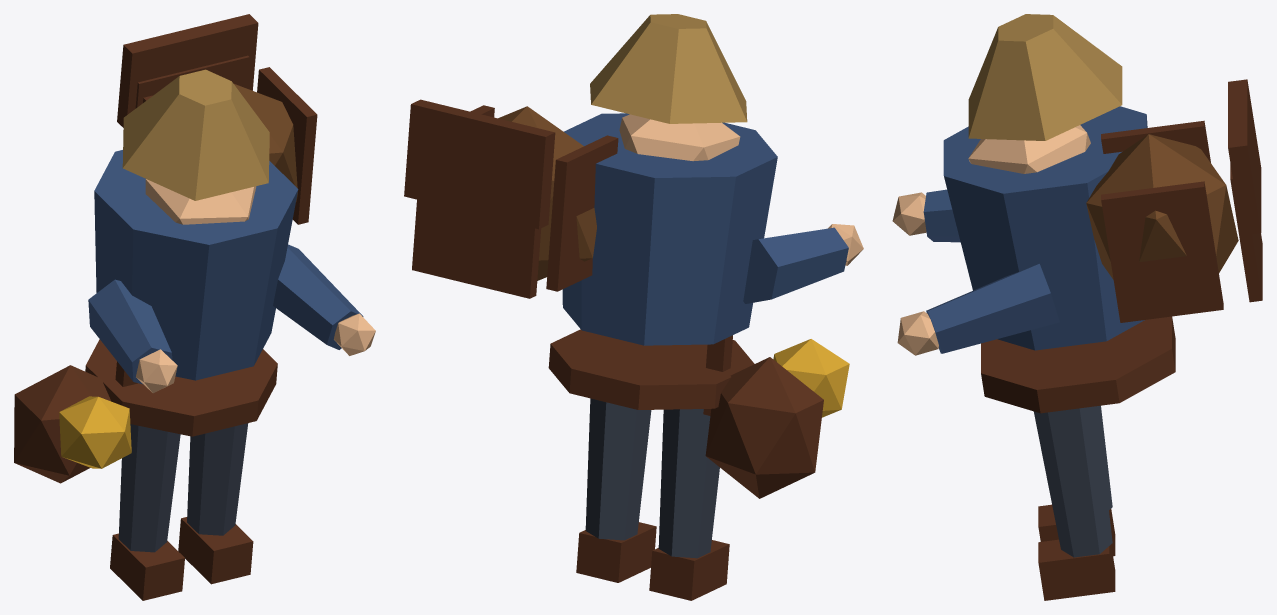
The model's file is npcpose_merchant_walk_03.glb.
The picture shows the model from 3 angles, left to right: view 1: azimuth 30°, elevation 25°; view 2: azimuth 150°, elevation 25°; view 3: azimuth 270°, elevation 25°; orthographic projection. The views are drawn at different scales.
Parts seen in each view (by area): view 1: npcpose; view 2: npcpose; view 3: npcpose.
Boxes of the visible parts, <box> form: npcpose: <box>14,14,375,600</box>; npcpose: <box>404,14,863,600</box>; npcpose: <box>892,14,1262,600</box>.
Bounding box in the file's own units: 1.2 × 1.86 × 1.13.
